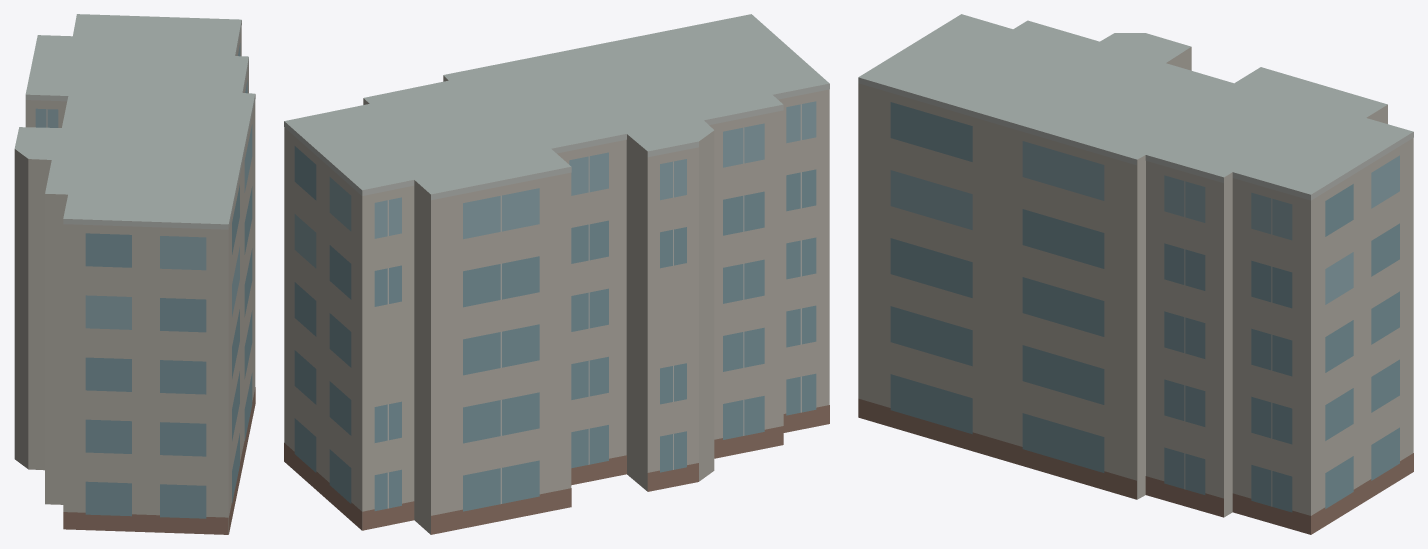
Rendered from survey-upis-32770946.glb.
3 renders of one model, left to right at view 1: azimuth 30°, elevation 25°; view 2: azimuth 150°, elevation 25°; view 3: azimuth 270°, elevation 25°, orthographic. The views are drawn at different scales.
Parts seen in each view (by area): view 1: survey-upis-32770946.tmp; view 2: survey-upis-32770946.tmp; view 3: survey-upis-32770946.tmp.
Part boxes in pixels (x1,y1,x2,y2): survey-upis-32770946.tmp: (14,14,255,534); survey-upis-32770946.tmp: (284,14,829,534); survey-upis-32770946.tmp: (858,14,1413,534).
Bounding box in the file's own units: 16.17 × 14.18 × 21.
